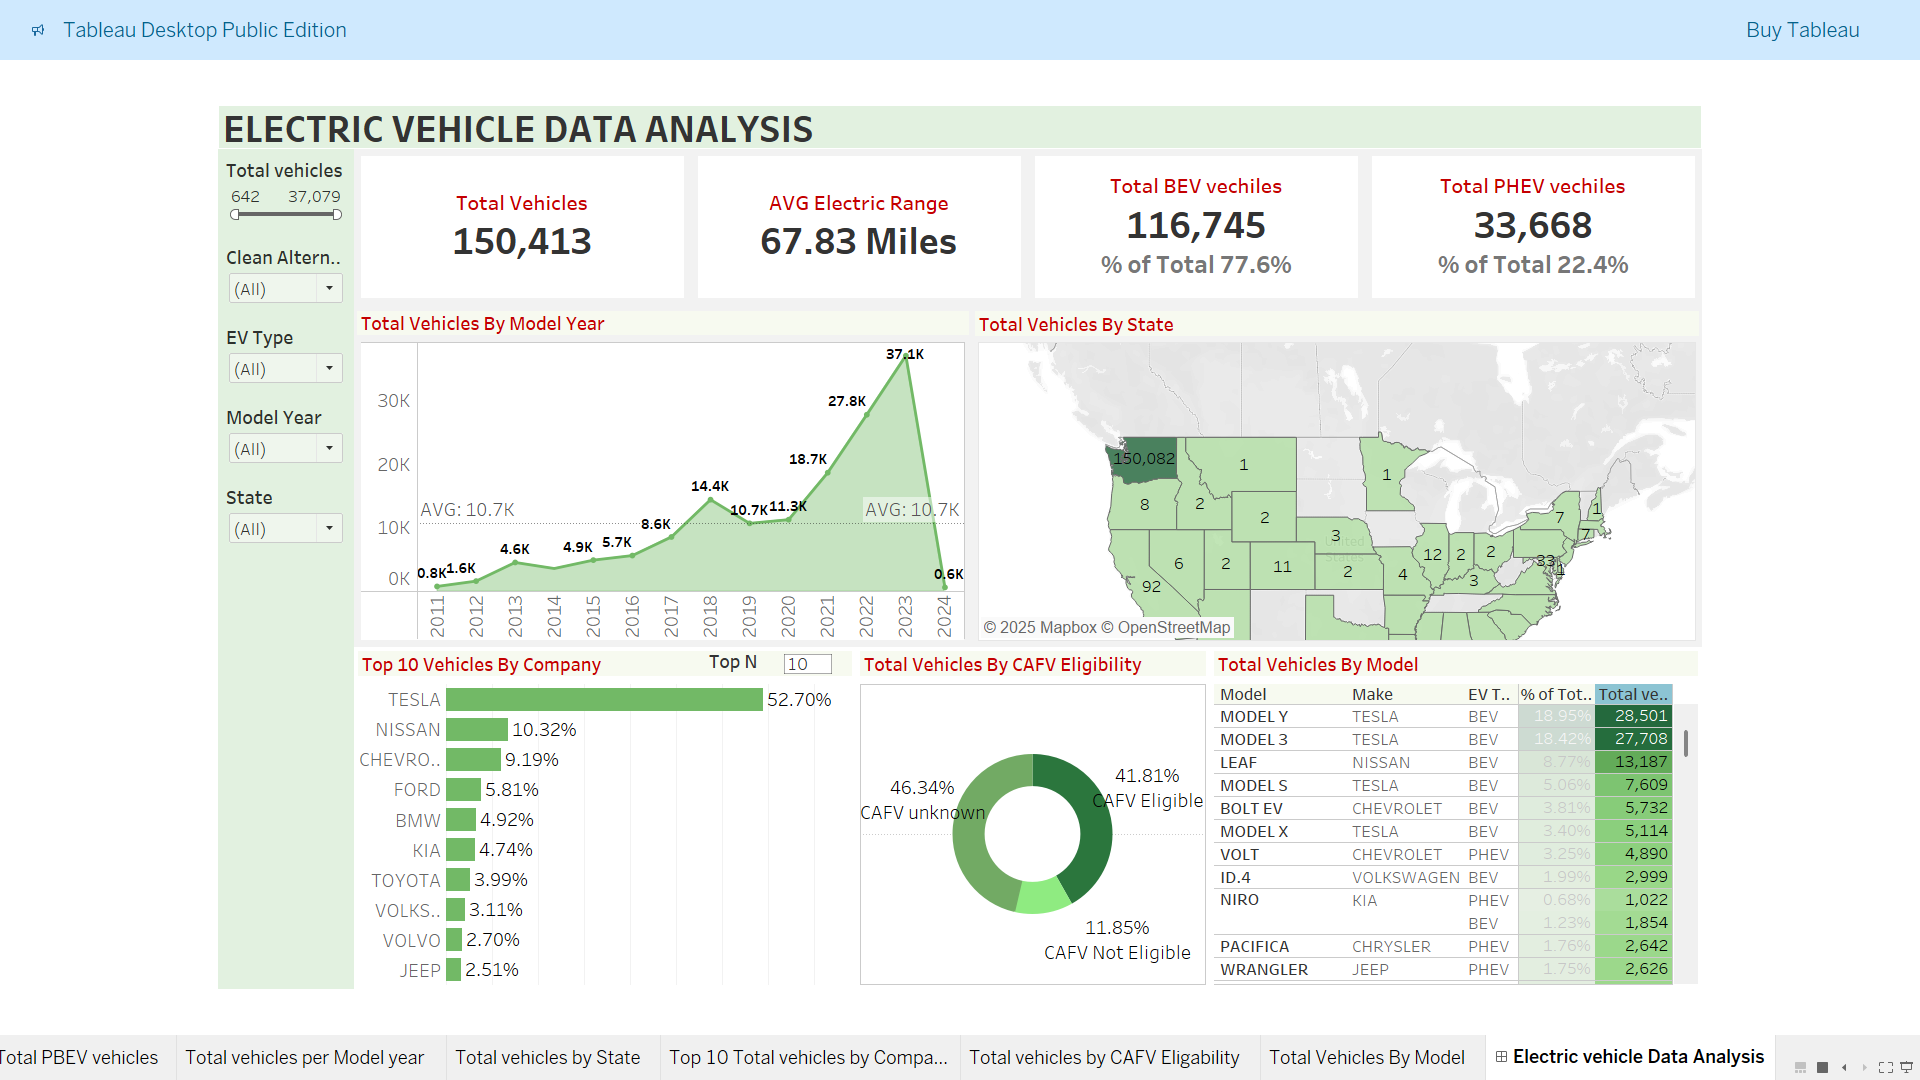

Layout of this report page (visuals, bound fields, positions):
{"tool":"tableau","page":{"name":"Electric vehicle Data Analysis","canvas":[1500,900],"ordinal":0},"visuals":[{"type":"title","box":[8,8,1484,44]},{"type":"worksheet","title":"Total vehicles","mark":"Automatic","box":[144,52,337,156]},{"type":"worksheet","title":"Avg Electric Range","mark":"Automatic","box":[481,52,337,156]},{"type":"worksheet","title":"Total BEV vehicles","mark":"Automatic","box":[818,52,337,156]},{"type":"worksheet","title":"Total PBEV vehicles","mark":"Automatic","box":[1155,52,337,156]},{"type":"filter","title":"Total vehicles per Model year","param":"[federated.16u6cba1ebzmk61acv2g605cl4hv].[usr:Calculation_836825131542269952:qk]","box":[12,56,128,77]},{"type":"blank","box":[12,133,128,10]},{"type":"filter","title":"Total vehicles per Model year","param":"[federated.16u6cba1ebzmk61acv2g605cl4hv].[none:Clean Alternative Fuel Vehicle (C","box":[12,143,128,70]},{"type":"text","box":[147,211,612,30]},{"type":"text","box":[765,211,724,31]},{"type":"blank","box":[12,213,128,10]},{"type":"filter","title":"Top 10 Total vehicles by Company","param":"[federated.16u6cba1ebzmk61acv2g605cl4hv].[none:Electric Vehicle Type:nk]","box":[12,223,128,121]},{"type":"worksheet","title":"Total vehicles per Model year","mark":"Line","rows":["Calculation_836825131542269952","Calculation_836825131542269952"],"cols":["Model Year"],"box":[147,241,612,306]},{"type":"worksheet","title":"Total vehicles by State","mark":"Multipolygon","box":[765,242,724,305]},{"type":"blank","box":[12,344,128,10]},{"type":"filter","title":"Total vehicles per Model year","param":"[federated.16u6cba1ebzmk61acv2g605cl4hv].[none:Model Year:ok]","box":[12,354,128,70]},{"type":"blank","box":[12,424,128,10]},{"type":"filter","title":"Total vehicles per Model year","param":"[federated.16u6cba1ebzmk61acv2g605cl4hv].[none:State:nk]","box":[12,434,128,70]},{"type":"text","box":[144,550,502,33]},{"type":"text","box":[646,550,354,33]},{"type":"text","box":[1000,550,492,33]},{"type":"parameter","param":"[Parameters].[Parameter 1]","box":[499,554,126,30]},{"type":"worksheet","title":"Top 10 Total vehicles by Company","mark":"Automatic","rows":["Make"],"cols":["Calculation_836825131542269952"],"box":[144,583,502,309]},{"type":"worksheet","title":"Total vehicles by CAFV Eligability","mark":"Pie","rows":["Calculation_836825131631607816","Calculation_836825131631607816"],"box":[646,583,354,309]},{"type":"worksheet","title":"Total Vehicles By Model","mark":"Square","rows":["Model","Make","Electric Vehicle Type"],"box":[1000,583,492,309]}]}

Visuals, with their boxes on the page's 1500x900 design canvas (x1, y1, x2, y2). These are canvas units, not pixel positions in the 1920x1080 screenshot, which may show the page scaled, cropped or inside an application window:
title: [x1=8, y1=8, x2=1492, y2=52]
"Total vehicles" worksheet: [x1=144, y1=52, x2=481, y2=208]
"Avg Electric Range" worksheet: [x1=481, y1=52, x2=818, y2=208]
"Total BEV vehicles" worksheet: [x1=818, y1=52, x2=1155, y2=208]
"Total PBEV vehicles" worksheet: [x1=1155, y1=52, x2=1492, y2=208]
"Total vehicles per Model year" filter: [x1=12, y1=56, x2=140, y2=133]
blank: [x1=12, y1=133, x2=140, y2=143]
"Total vehicles per Model year" filter: [x1=12, y1=143, x2=140, y2=213]
text: [x1=147, y1=211, x2=759, y2=241]
text: [x1=765, y1=211, x2=1489, y2=242]
blank: [x1=12, y1=213, x2=140, y2=223]
"Top 10 Total vehicles by Company" filter: [x1=12, y1=223, x2=140, y2=344]
"Total vehicles per Model year" worksheet (Line marks): [x1=147, y1=241, x2=759, y2=547]
"Total vehicles by State" worksheet (Multipolygon marks): [x1=765, y1=242, x2=1489, y2=547]
blank: [x1=12, y1=344, x2=140, y2=354]
"Total vehicles per Model year" filter: [x1=12, y1=354, x2=140, y2=424]
blank: [x1=12, y1=424, x2=140, y2=434]
"Total vehicles per Model year" filter: [x1=12, y1=434, x2=140, y2=504]
text: [x1=144, y1=550, x2=646, y2=583]
text: [x1=646, y1=550, x2=1000, y2=583]
text: [x1=1000, y1=550, x2=1492, y2=583]
parameter: [x1=499, y1=554, x2=625, y2=584]
"Top 10 Total vehicles by Company" worksheet: [x1=144, y1=583, x2=646, y2=892]
"Total vehicles by CAFV Eligability" worksheet (Pie marks): [x1=646, y1=583, x2=1000, y2=892]
"Total Vehicles By Model" worksheet (Square marks): [x1=1000, y1=583, x2=1492, y2=892]
